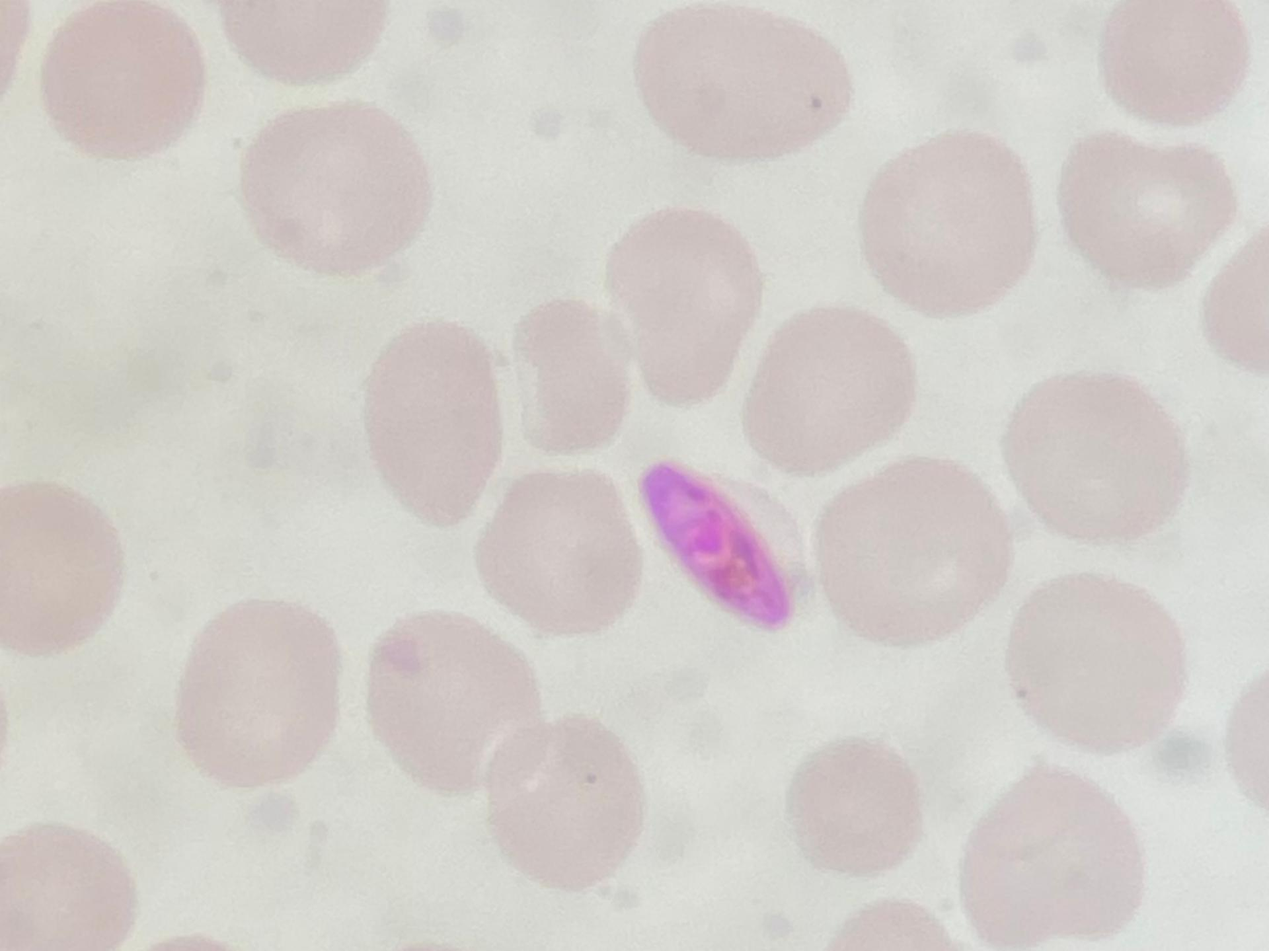Infected: (648, 462, 800, 631)
Uninfected: (813, 458, 1012, 644), (634, 5, 851, 161), (958, 767, 1144, 945), (858, 134, 1040, 314), (239, 104, 430, 275), (367, 611, 543, 794), (174, 600, 344, 789), (1003, 371, 1187, 544), (1007, 576, 1185, 753), (604, 210, 764, 400), (360, 321, 507, 525), (749, 305, 921, 477), (481, 718, 644, 888), (476, 470, 640, 636), (1058, 134, 1231, 289), (42, 3, 208, 158), (206, 347, 355, 497), (3, 482, 126, 655), (783, 738, 924, 878), (510, 298, 634, 453), (1102, 0, 1249, 124), (1, 824, 133, 947)
